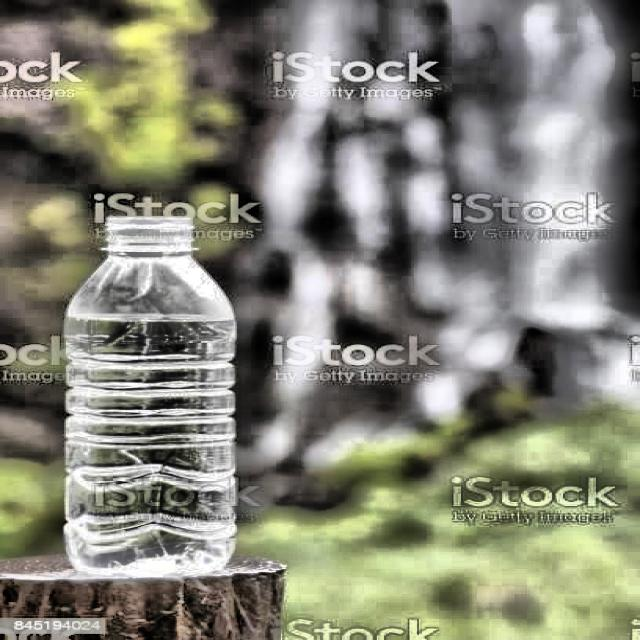Bottles: (47, 208, 247, 586)
